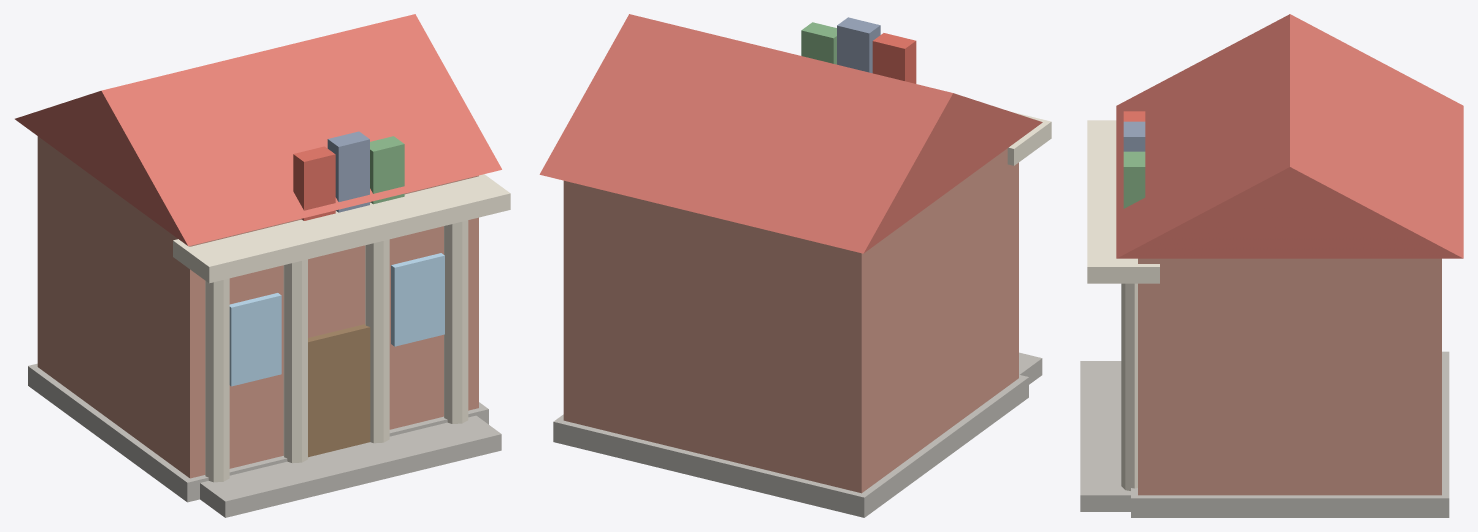
Rendered from library.glb.
The picture shows the model from 3 angles, left to right: view 1: azimuth 30°, elevation 25°; view 2: azimuth 150°, elevation 25°; view 3: azimuth 270°, elevation 25°; orthographic projection. The views are drawn at different scales.
Parts seen in each view (by area): view 1: library; view 2: library; view 3: library.
Boxes of the visible parts, x1,y1,x2,y2 form: library: (15,14,510,517); library: (539,14,1051,517); library: (1080,14,1463,517).
Bounding box in the file's own units: 5 × 5.4 × 5.3.
